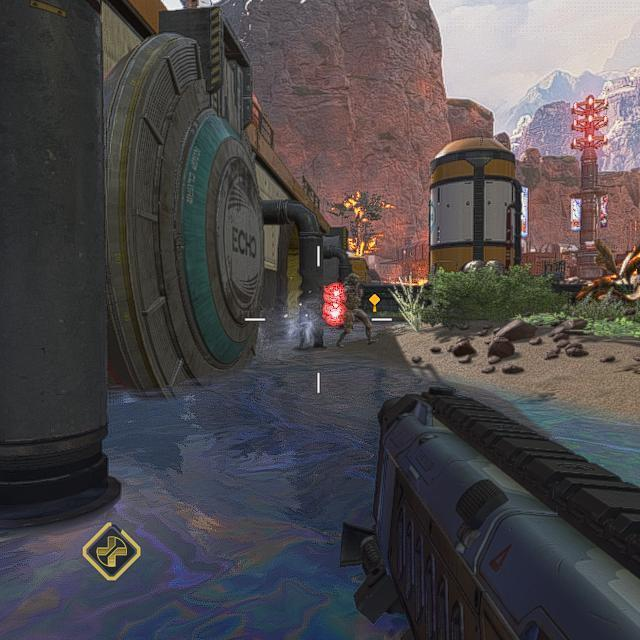avatar: (333, 272, 374, 350)
object: (322, 283, 347, 327)
